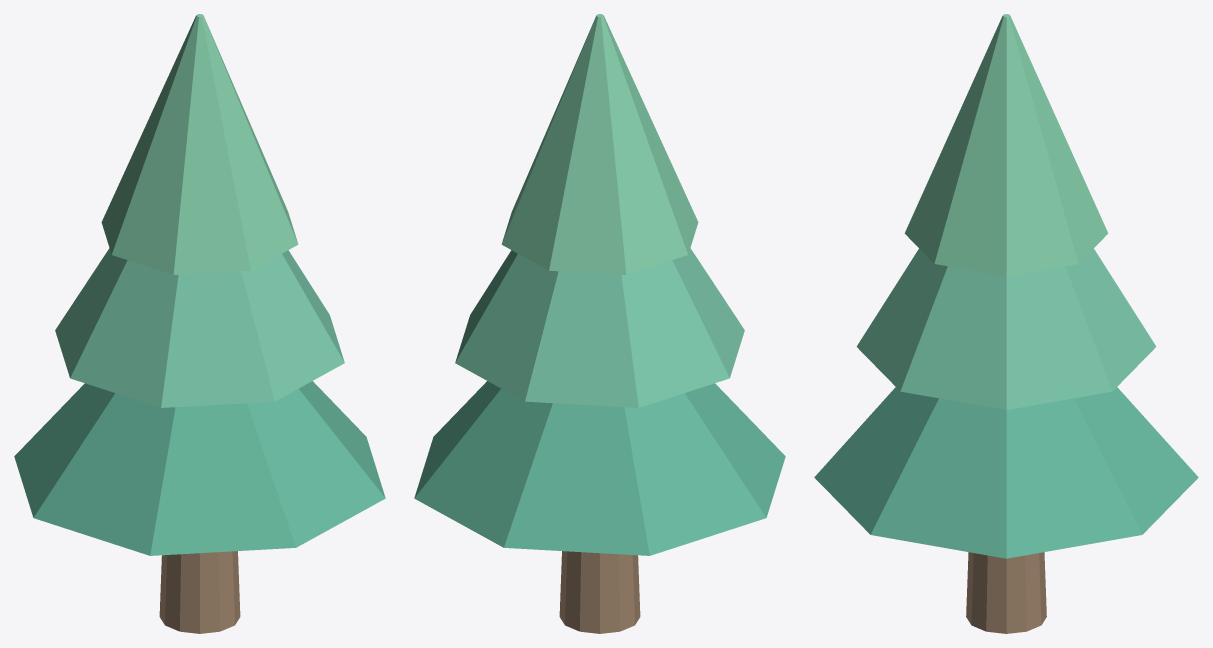
File: warlike-pine-3d.gltf
3 renders of one model, left to right at view 1: azimuth 30°, elevation 25°; view 2: azimuth 150°, elevation 25°; view 3: azimuth 270°, elevation 25°, orthographic.
Visible parts, largest first — view 1: Part 1, Part 2, Part 3, Part 0; view 2: Part 1, Part 2, Part 3, Part 0; view 3: Part 1, Part 2, Part 3, Part 0.
Boxes of the visible parts, bbox=[...] form: Part 1: bbox=[14, 381, 385, 555]; Part 2: bbox=[55, 248, 344, 407]; Part 3: bbox=[101, 14, 298, 274]; Part 0: bbox=[159, 551, 240, 633]; Part 1: bbox=[414, 381, 785, 555]; Part 2: bbox=[455, 248, 744, 407]; Part 3: bbox=[501, 14, 698, 274]; Part 0: bbox=[559, 551, 640, 633]; Part 1: bbox=[814, 387, 1198, 558]; Part 2: bbox=[856, 248, 1156, 409]; Part 3: bbox=[904, 14, 1108, 276]; Part 0: bbox=[966, 552, 1046, 633].
Size of the model in its own units: 2 by 3.45 by 2.
